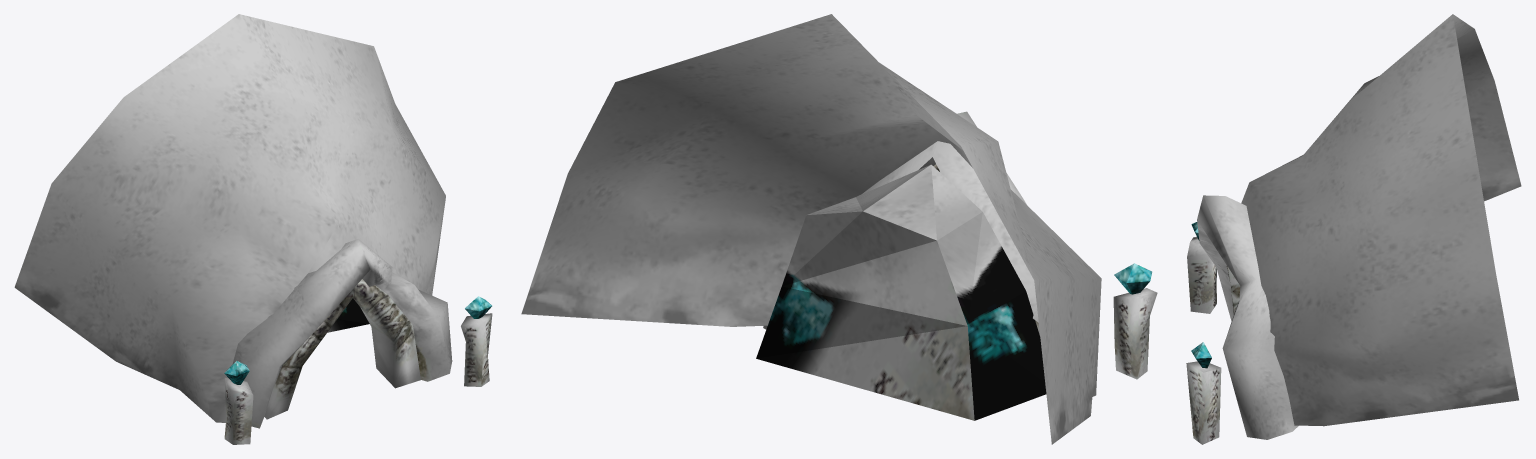
File: warpgate01_lod_01.fbx
The picture shows the model from 3 angles, left to right: view 1: azimuth 30°, elevation 25°; view 2: azimuth 150°, elevation 25°; view 3: azimuth 270°, elevation 25°; orthographic projection. The views are drawn at different scales.
Visible parts, largest first — view 1: warpgate01-01, warpgate01-02; view 2: warpgate01-01, warpgate01-02; view 3: warpgate01-01, warpgate01-02.
Boxes of the visible parts, <box> form: warpgate01-01: <box>14,14,445,422</box>; warpgate01-02: <box>224,239,492,444</box>; warpgate01-01: <box>521,14,1101,444</box>; warpgate01-02: <box>756,111,1157,420</box>; warpgate01-01: <box>1241,14,1521,426</box>; warpgate01-02: <box>1186,195,1298,444</box>.
Bounding box in the file's own units: 21.64 × 17.06 × 14.32.
